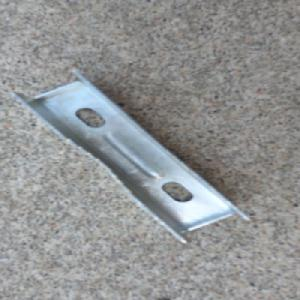ClampPart: (11, 67, 255, 245)
